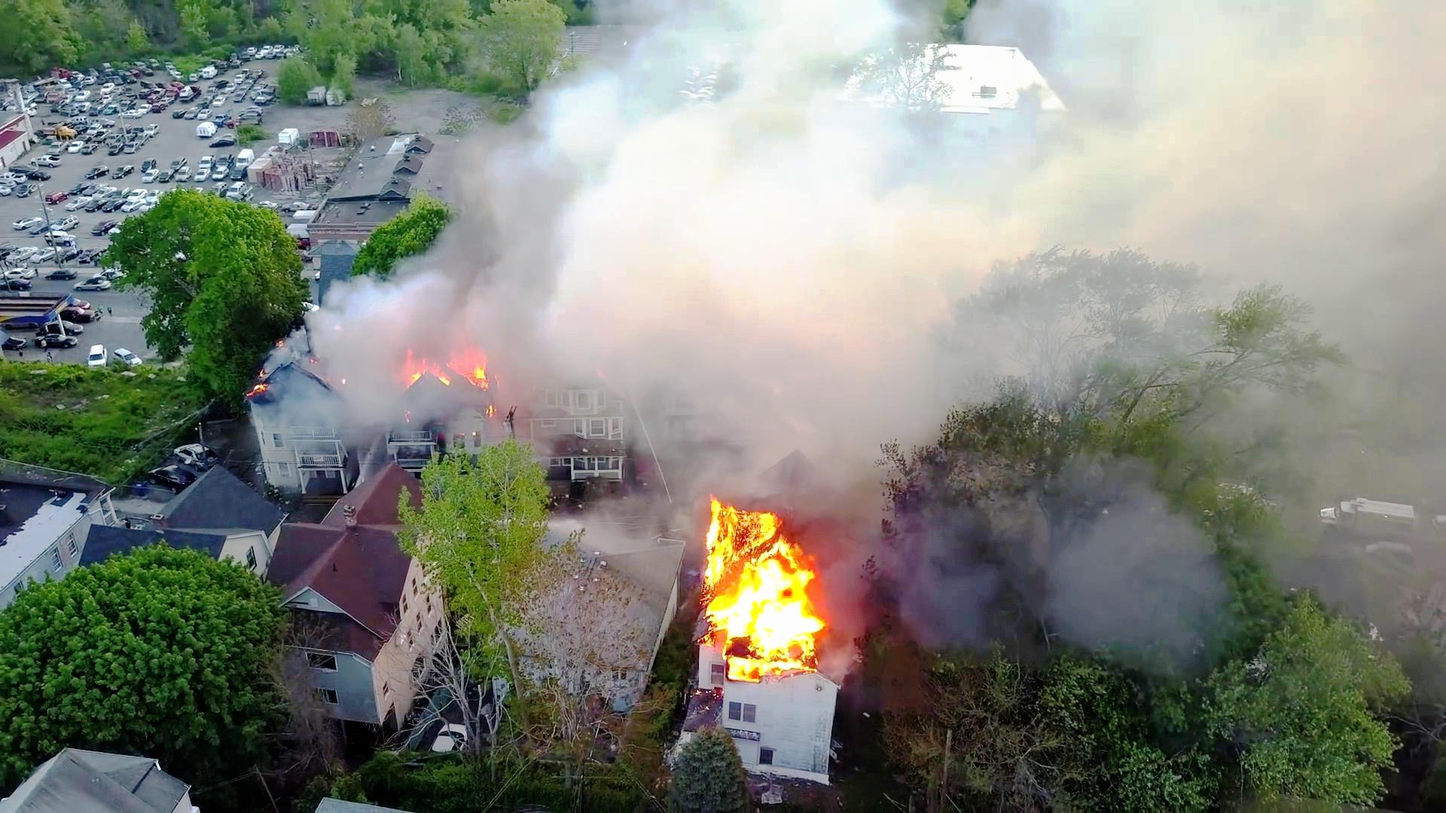fire: (701, 506, 825, 693)
smoke: (445, 192, 876, 350)
